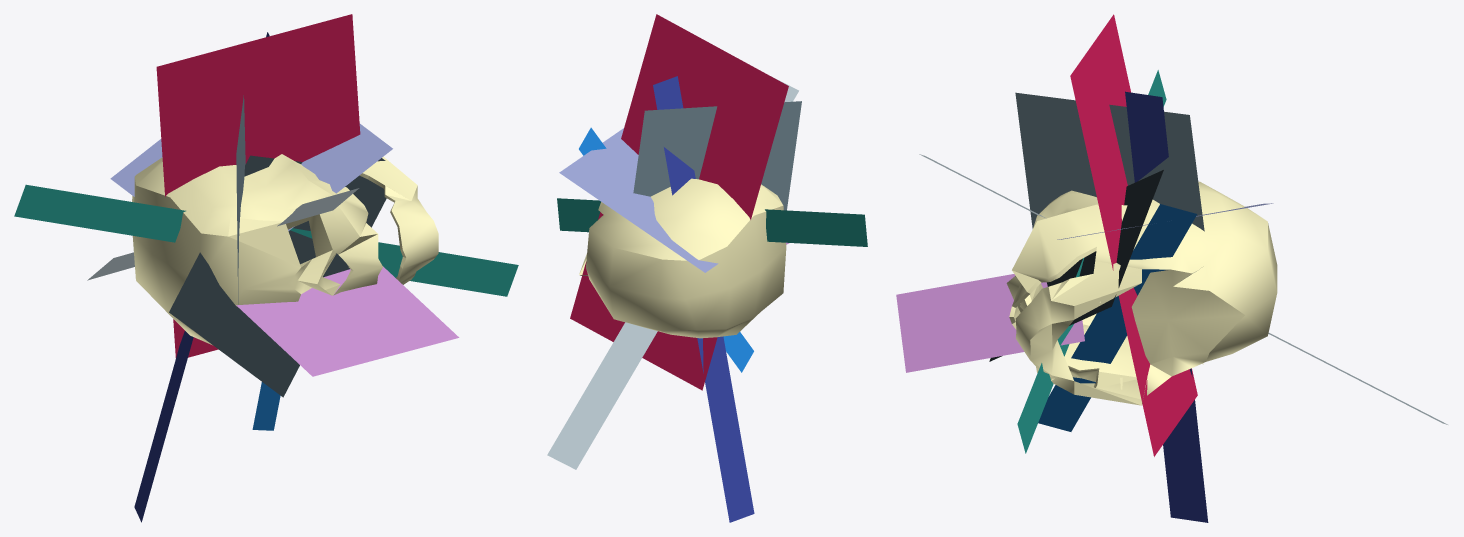
Rendered from skull5.glb.
3 views of the same model, side by side, from view 1: azimuth 30°, elevation 25°; view 2: azimuth 150°, elevation 25°; view 3: azimuth 270°, elevation 25° (orthographic). The views are drawn at different scales.
Parts seen in each view (by area): view 1: skull5, Plane.027, Plane.068, Plane.011, Plane.078, Plane.061, Plane.002, Plane.039, Plane.020, Plane.034; view 2: skull5, Plane.027, Plane.020, Plane.002, Plane.039, Plane.061, Plane.011, Plane.034; view 3: skull5, Plane.027, Plane.020, Plane.068, Plane.002, Plane.034, Plane.078, Plane.011, Plane.039.
Part boxes in pixels (x1,y1,x2,y2): skull5: (132,154,438,345); Plane.027: (156,14,360,357); Plane.068: (236,266,459,376); Plane.011: (14,184,518,296); Plane.078: (169,155,386,397); Plane.061: (110,123,392,230); Plane.002: (134,32,269,522); Plane.039: (87,188,359,280); Plane.020: (236,95,245,304); Plane.034: (252,382,280,430); skull5: (579,178,786,338); Plane.027: (570,14,788,390); Plane.020: (633,101,801,210); Plane.002: (653,76,754,522); Plane.039: (547,77,798,469); Plane.061: (559,128,718,272); Plane.011: (557,198,867,246); Plane.034: (579,127,753,372); skull5: (1006,181,1277,405); Plane.027: (1070,14,1197,456); Plane.020: (1015,92,1204,276); Plane.068: (896,274,1084,372); Plane.002: (1125,91,1208,522); Plane.034: (1038,204,1197,431); Plane.078: (989,170,1163,361); Plane.011: (1017,70,1166,453); Plane.039: (919,154,1447,424).
Size of what is drawn, in the model's own units: 13.34 by 14.88 by 14.25.
Materials: 1 (1 with a texture image).
